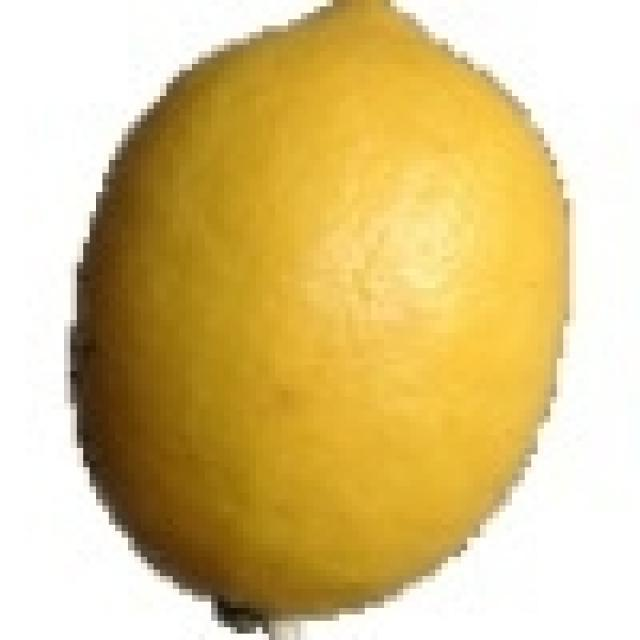lemon: (75, 0, 568, 626)
